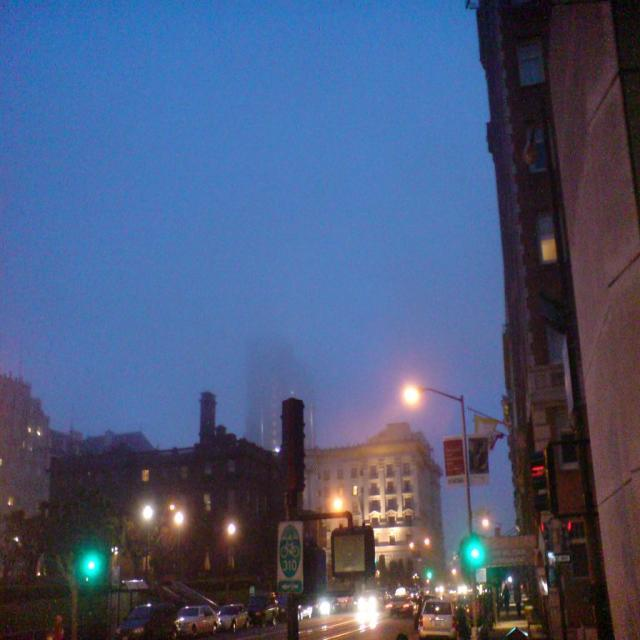off traffic light: (529, 445, 555, 515)
